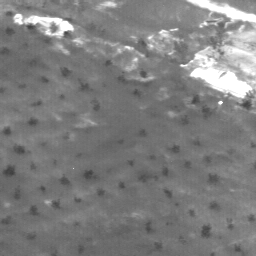aircraft: (220, 102, 222, 104)
